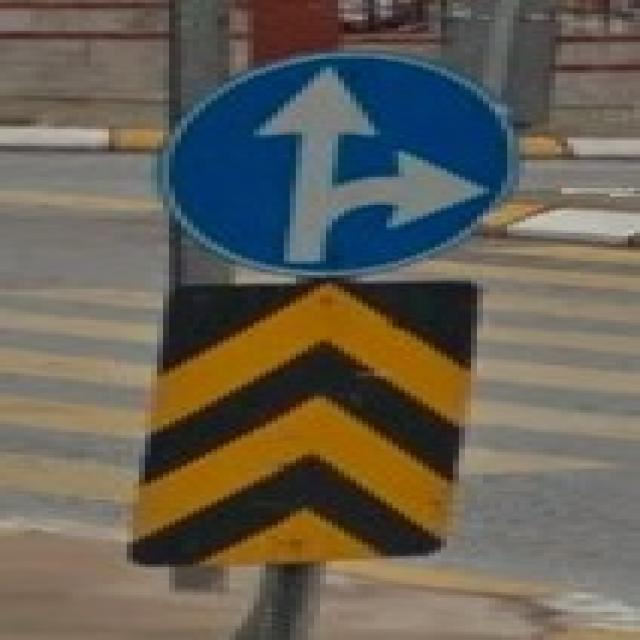Straight or Right: (161, 56, 499, 272)
